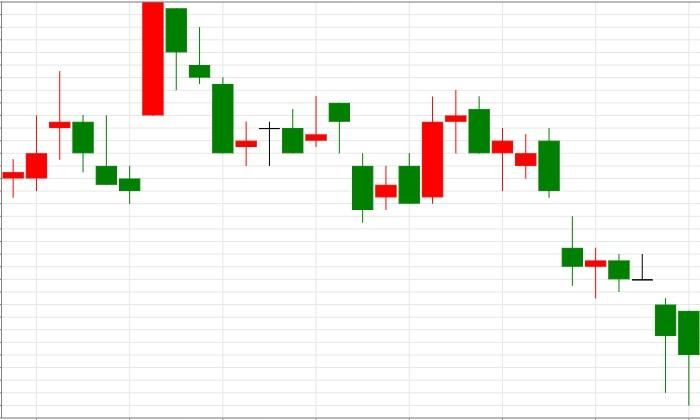hammer_rise: (538, 127, 700, 406)
